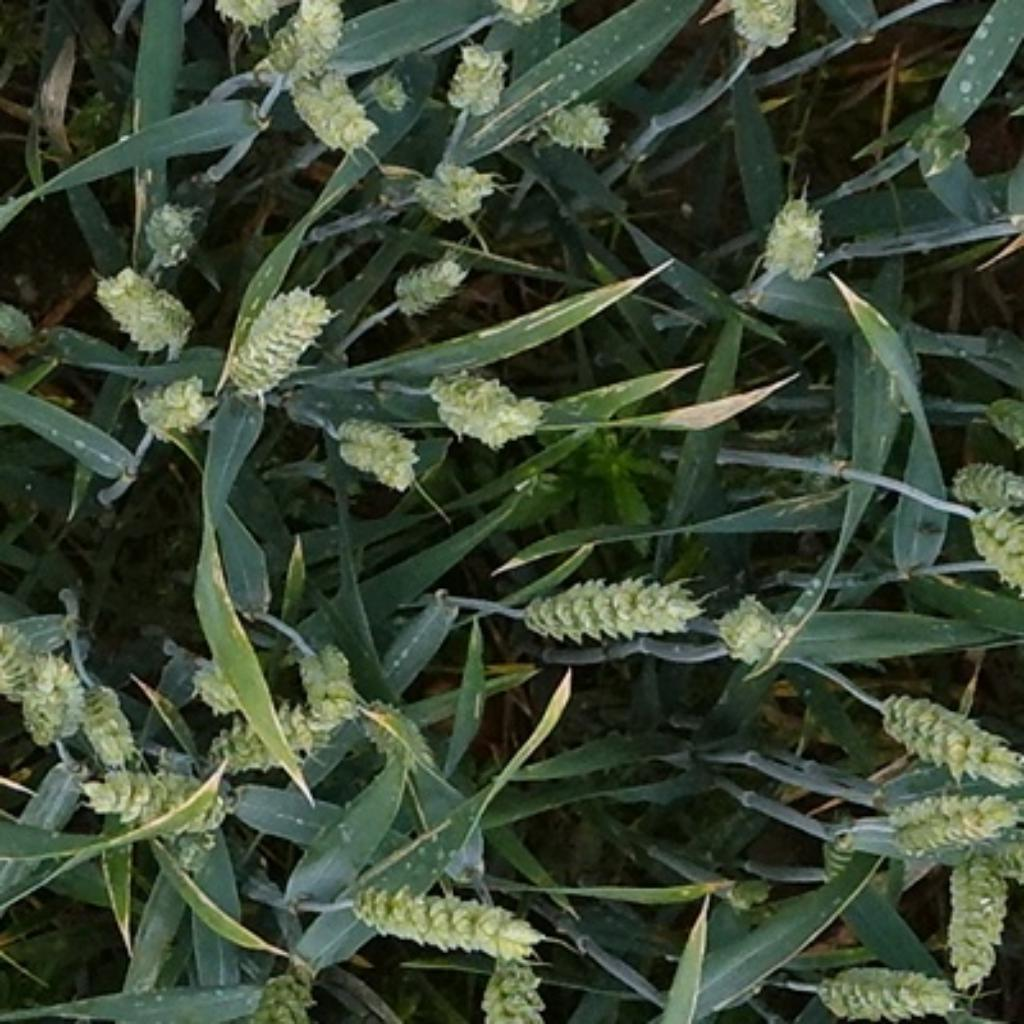0-0: (338, 877, 554, 962), (867, 672, 1022, 787), (504, 558, 704, 642), (216, 282, 341, 401), (76, 750, 230, 837), (419, 361, 556, 458), (89, 256, 202, 363), (274, 63, 389, 166), (939, 852, 1021, 990), (875, 778, 1024, 851), (811, 960, 972, 1024), (0, 650, 94, 755), (754, 184, 838, 300), (199, 696, 317, 773), (329, 410, 429, 495), (401, 145, 501, 229), (284, 629, 360, 732), (384, 243, 477, 326), (708, 587, 798, 667), (258, 0, 350, 76), (893, 105, 985, 181), (529, 89, 619, 164), (960, 506, 1024, 609), (128, 363, 215, 437), (71, 663, 135, 760), (437, 41, 512, 123), (350, 691, 432, 765), (719, 0, 807, 63), (471, 952, 547, 1024), (130, 184, 202, 258), (238, 957, 317, 1024), (804, 815, 869, 890), (715, 859, 783, 926), (946, 457, 1024, 513), (968, 384, 1024, 459), (478, 0, 559, 47), (185, 652, 243, 714), (0, 614, 40, 696), (0, 291, 49, 355), (365, 61, 416, 122), (197, 0, 279, 34)
